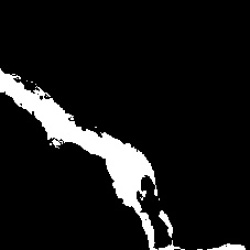crack: (0, 70, 249, 249)
